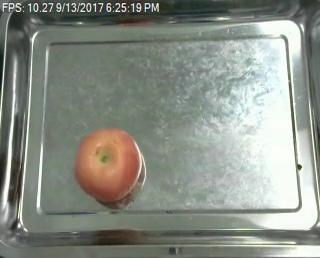apple: (74, 128, 143, 202)
